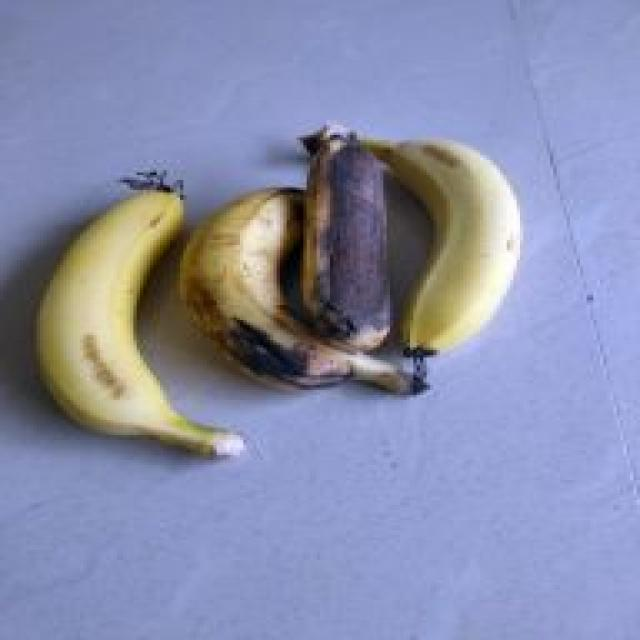Wet: (173, 180, 430, 398), (297, 120, 393, 355)
